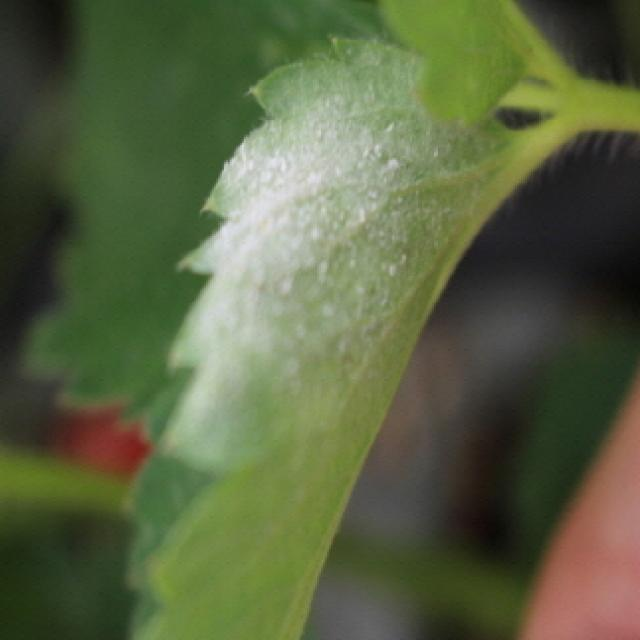Powdery Mildew Leaf: (120, 33, 550, 640)
